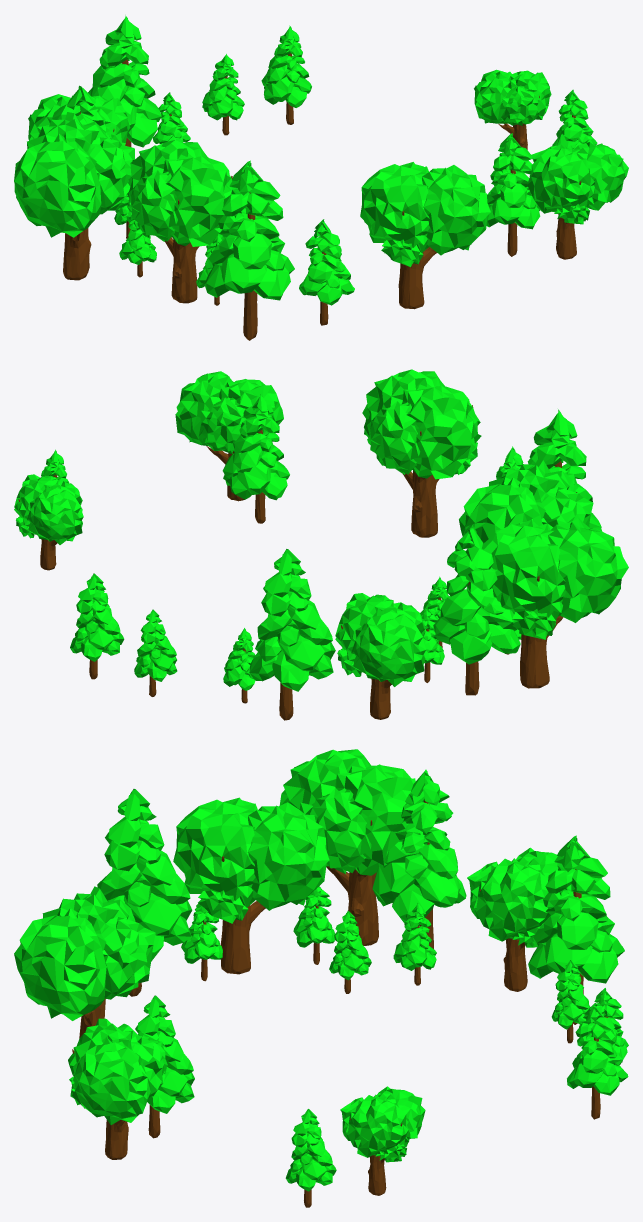
File: Tree.fbx
3 renders of one model, top to bottom at view 1: azimuth 30°, elevation 25°; view 2: azimuth 150°, elevation 25°; view 3: azimuth 270°, elevation 25°, orthographic. The views are drawn at different scales.
Parts seen in each view (by area): view 1: Oak_1.004, Oak_1.001, Oak_1.003, Pine-2.002, Oak_1.005, Pine-2.004, Oak_1, Pine-2.001, Pine-1.006, Pine-2, Oak_1.002, Pine-2.003 (+4 smaller); view 2: Oak_1.004, Oak_1.001, Pine-2.004, Oak_1.002, Pine-2.005, Oak_1.003, Oak_1.005, Pine-2.001, Oak_1, Pine-2, Pine-2.002, Pine-2.003 (+4 smaller); view 3: Oak_1.003, Oak_1.001, Oak_1.004, Pine-2.004, Pine-2.002, Oak_1.005, Pine-2.005, Oak_1.002, Oak_1, Pine-2, Pine-2.001, Pine-1.001 (+6 smaller).
Boxes of the visible parts, x1,y1,x2,y2 form: Oak_1.004: (14, 112, 134, 280); Oak_1.001: (360, 162, 490, 309); Oak_1.003: (128, 140, 237, 303); Pine-2.002: (204, 160, 294, 340); Oak_1.005: (527, 139, 628, 259); Pine-2.004: (88, 15, 161, 147); Oak_1: (474, 69, 551, 149); Pine-2.001: (486, 133, 540, 256); Pine-1.006: (299, 219, 354, 325); Pine-2: (261, 25, 311, 124); Oak_1.002: (28, 94, 130, 145); Pine-2.003: (202, 54, 244, 135); Oak_1.004: (482, 518, 628, 688); Oak_1.001: (362, 369, 481, 537); Pine-2.004: (249, 549, 335, 720); Oak_1.002: (335, 593, 426, 719); Pine-2.005: (433, 524, 520, 695); Oak_1.003: (459, 458, 593, 543); Oak_1.005: (175, 371, 283, 501); Pine-2.001: (222, 394, 289, 523); Oak_1: (14, 474, 83, 570); Pine-2: (70, 573, 124, 679); Pine-2.002: (527, 409, 601, 528); Pine-2.003: (134, 609, 177, 696); Oak_1.003: (173, 797, 329, 974); Oak_1.001: (14, 886, 155, 1038); Oak_1.004: (279, 749, 415, 945); Pine-2.004: (528, 835, 624, 1024); Pine-2.002: (97, 789, 192, 996); Oak_1.005: (68, 1018, 167, 1159); Pine-2.005: (372, 769, 466, 948); Oak_1.002: (467, 847, 562, 991); Oak_1: (340, 1086, 425, 1195); Pine-2: (567, 1003, 628, 1119); Pine-2.001: (135, 995, 194, 1138); Pine-1.001: (285, 1109, 336, 1207).
Bounding box in the file's own units: 1814 × 547 × 1473.
